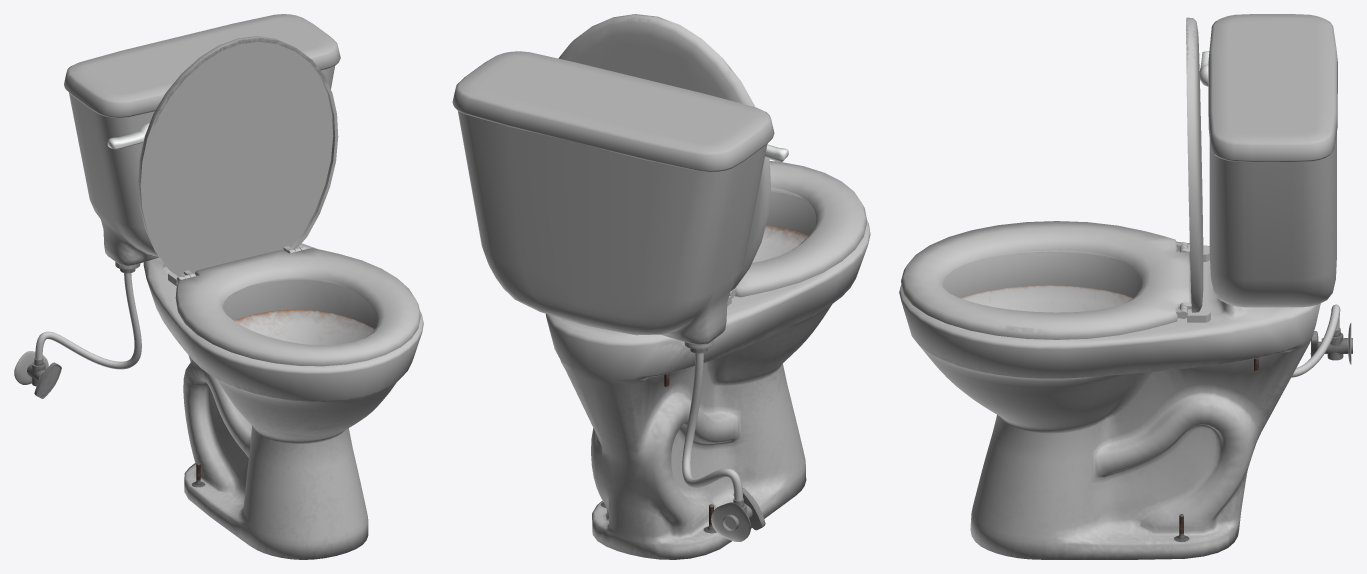
File: toi.gltf
The picture shows the model from 3 angles, left to right: view 1: azimuth 30°, elevation 25°; view 2: azimuth 150°, elevation 25°; view 3: azimuth 270°, elevation 25°; orthographic projection. The views are drawn at different scales.
Visible parts, largest first — view 1: Toilet, ToiletSeatCover, ToiletSeat, ToiletFlushHandle; view 2: Toilet, ToiletSeatCover, ToiletSeat; view 3: Toilet, ToiletSeat, ToiletSeatCover.
Boxes of the visible parts, x1,y1,x2,y2 form: Toilet: (14,14,423,559); ToiletSeatCover: (138,36,338,277); ToiletSeat: (175,246,420,366); ToiletFlushHandle: (107,123,149,149); Toilet: (452,51,870,559); ToiletSeatCover: (558,14,770,291); ToiletSeat: (729,161,866,298); Toilet: (899,14,1352,559); ToiletSeat: (901,221,1191,339); ToiletSeatCover: (1179,17,1203,312).
Bounding box in the file's own units: 0.4783 × 0.7435 × 0.607.
Materials: 1 (1 with a texture image).
